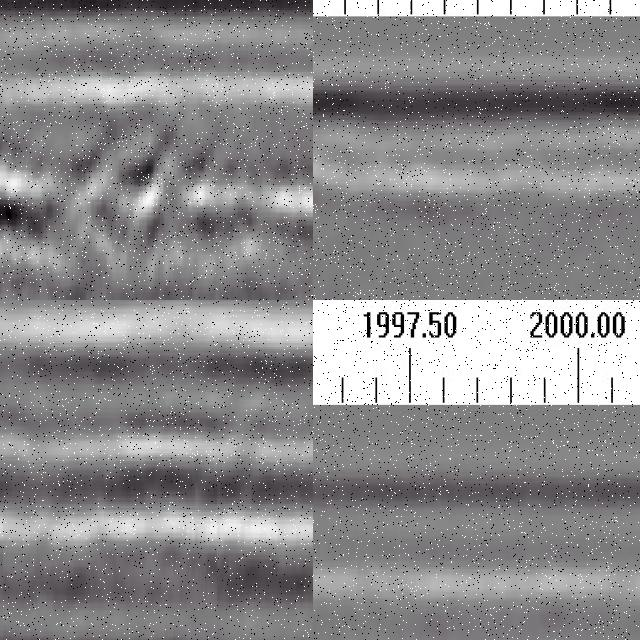loose: (1, 137, 99, 301)
